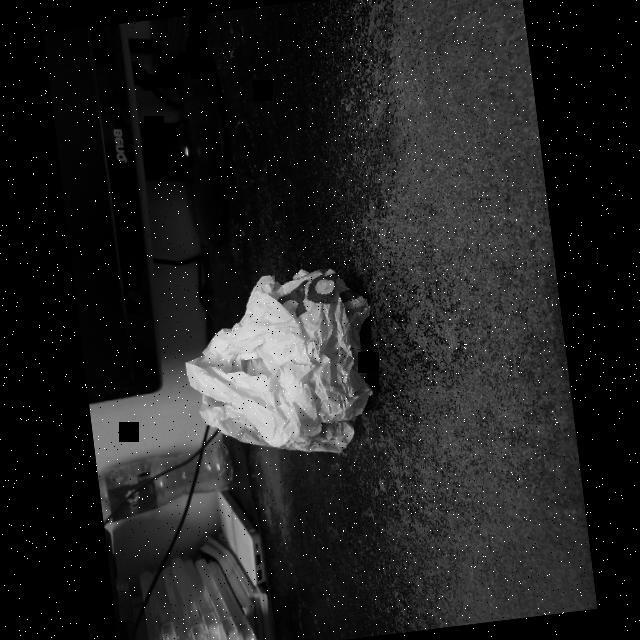plastic_bag: (174, 247, 395, 474)
